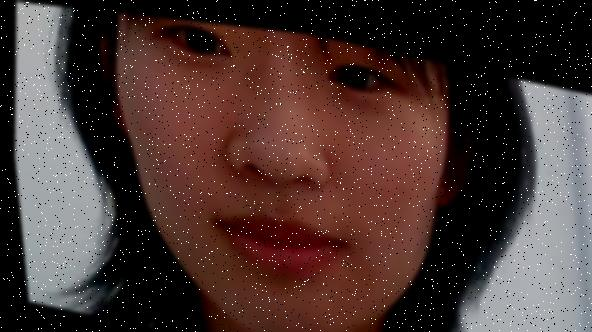eye: (335, 53, 368, 83), (185, 21, 217, 51)
iris: (165, 17, 235, 57), (326, 50, 394, 89)
